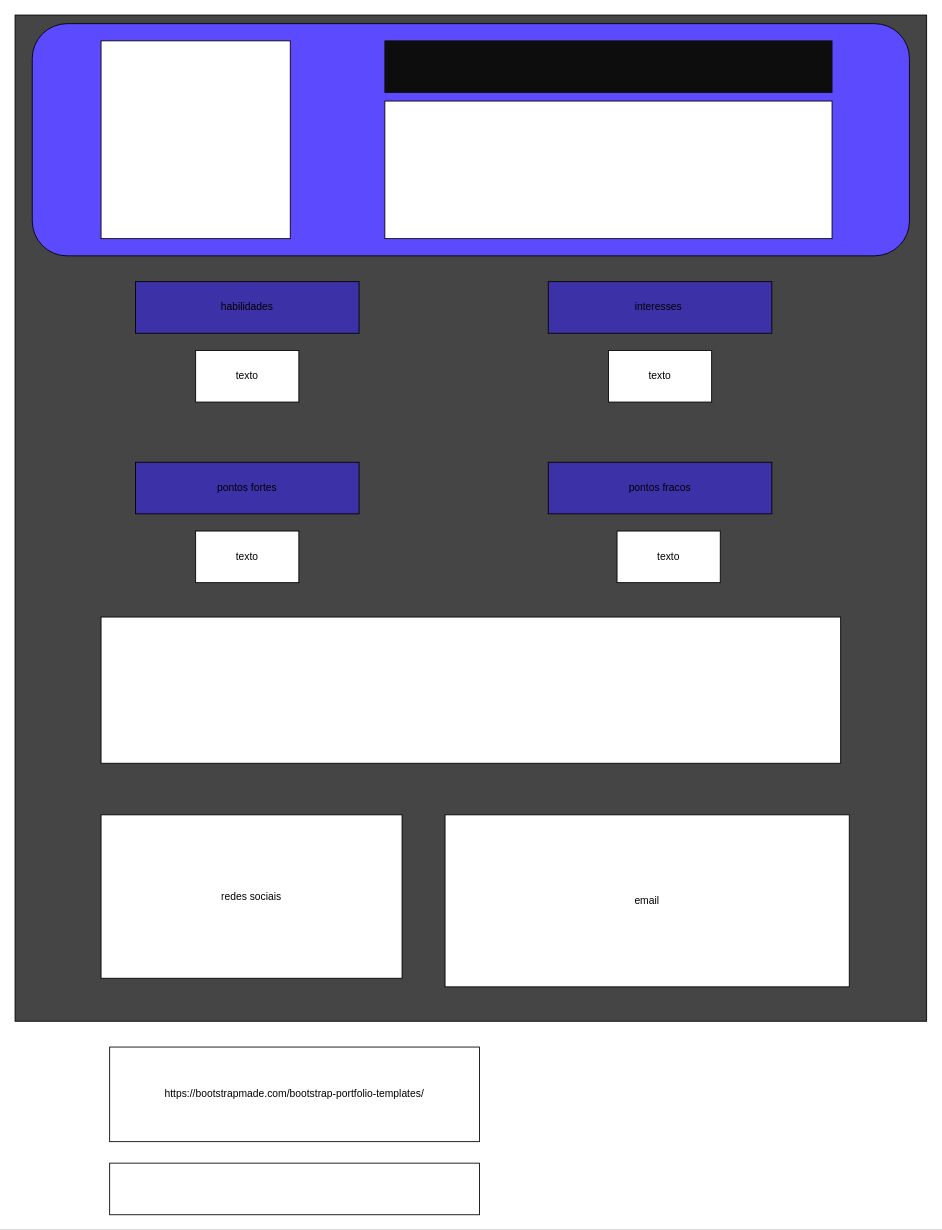
Some shapes in this 942 by 1230 pixel diagram are drawn without their labels. Each missing label, with the centre of its shape:
"apresentação" belongs at (608,169).
"foto" belongs at (195,139).
"https://startbootstrap.com/themes/portfolio-resume" belongs at (294,1188).
"nome" belongs at (608,66).
"tabela" belongs at (470,689).
